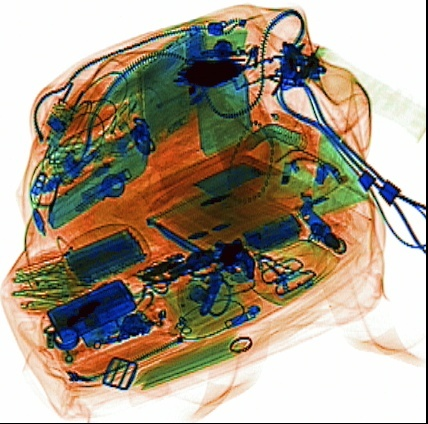powerbank: (60, 224, 147, 289)
